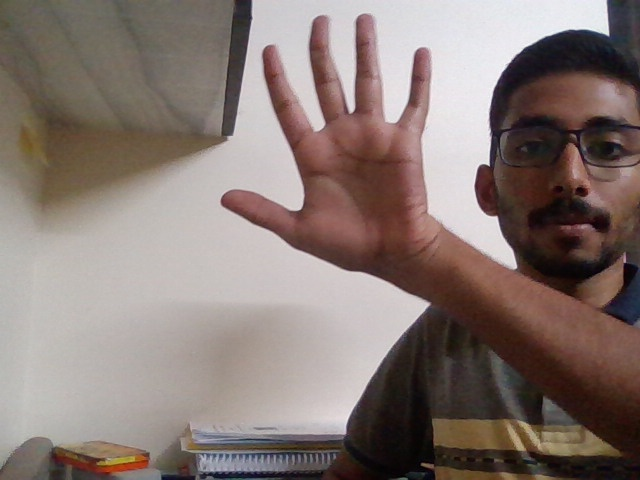Hello: (219, 6, 458, 304)
